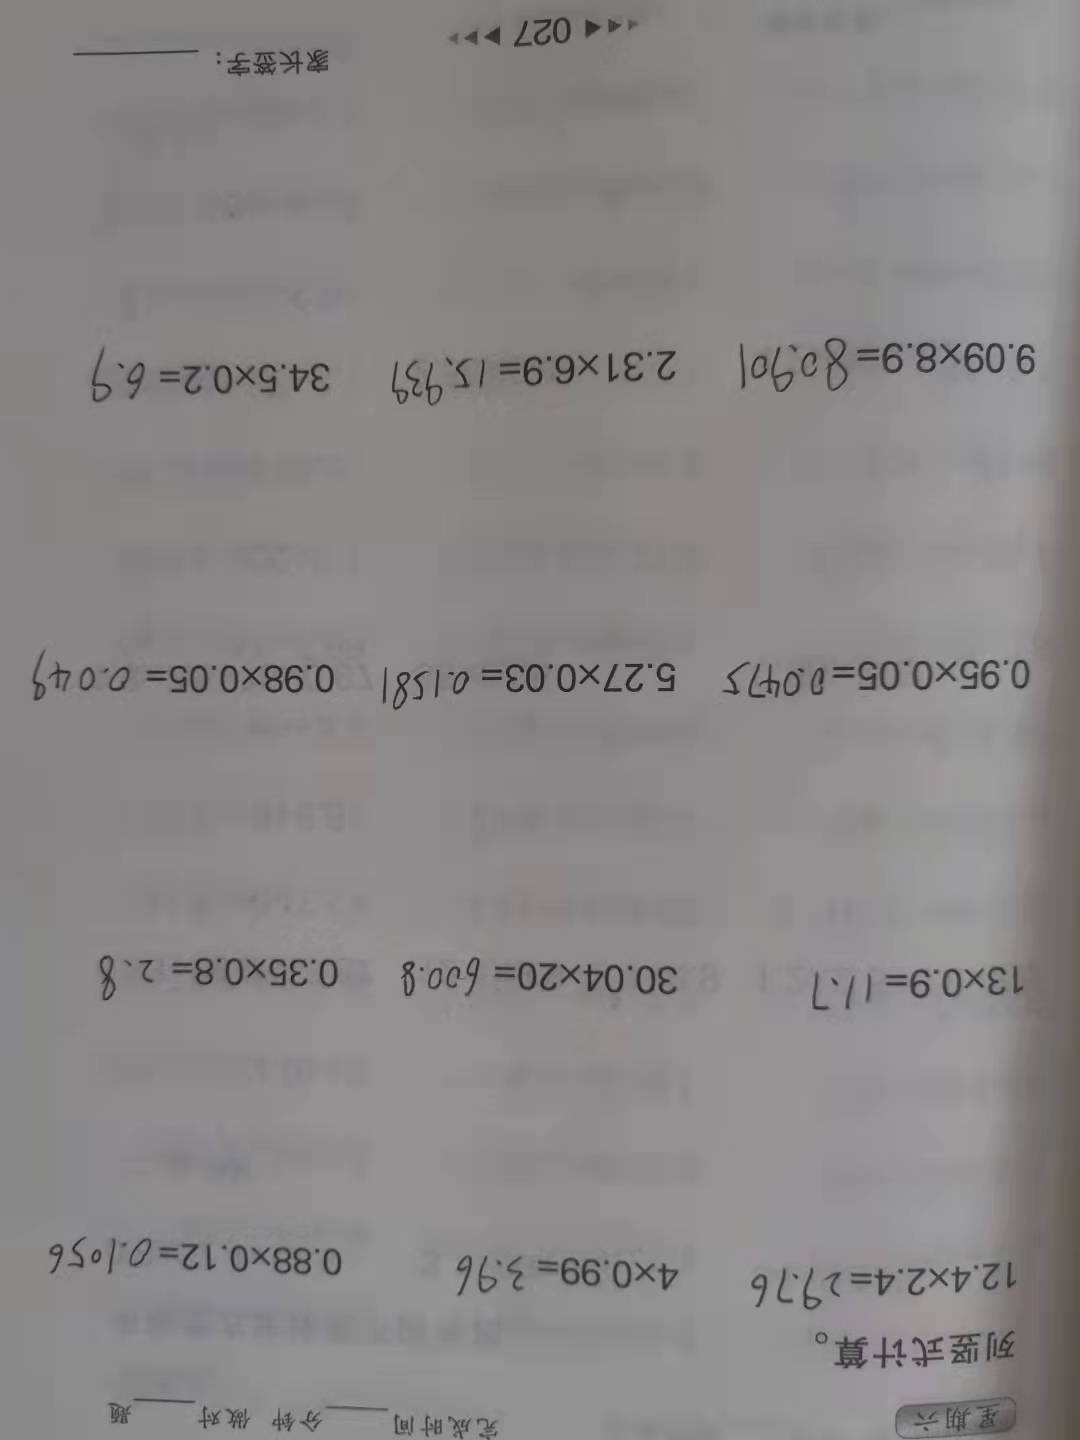equation: (704, 659, 1043, 727), (729, 331, 1049, 403), (388, 341, 687, 417), (744, 1251, 1028, 1327), (22, 643, 351, 708), (33, 1233, 354, 1298), (398, 952, 678, 1027), (75, 339, 346, 415), (369, 655, 677, 718), (85, 945, 362, 1013), (439, 1238, 691, 1307), (799, 959, 1029, 1024)
